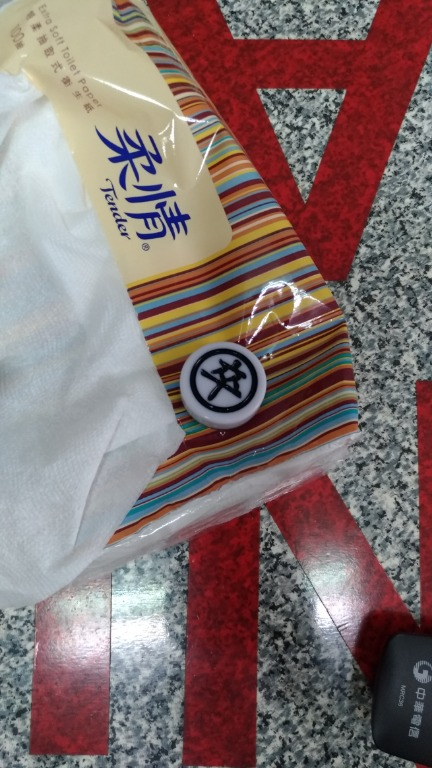b-pawn: (166, 337, 280, 434)
